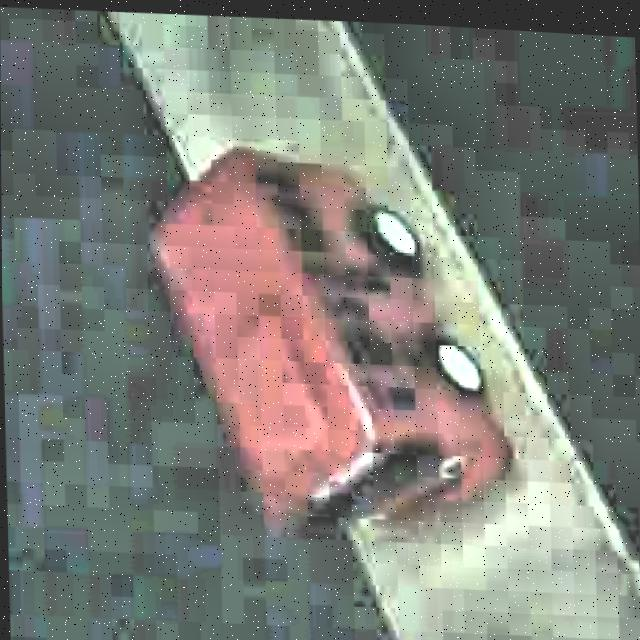bus: (142, 135, 520, 543)
